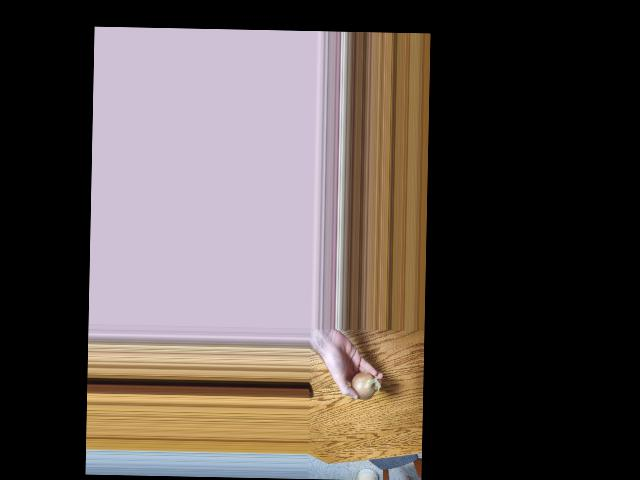onion: (350, 369, 375, 399)
